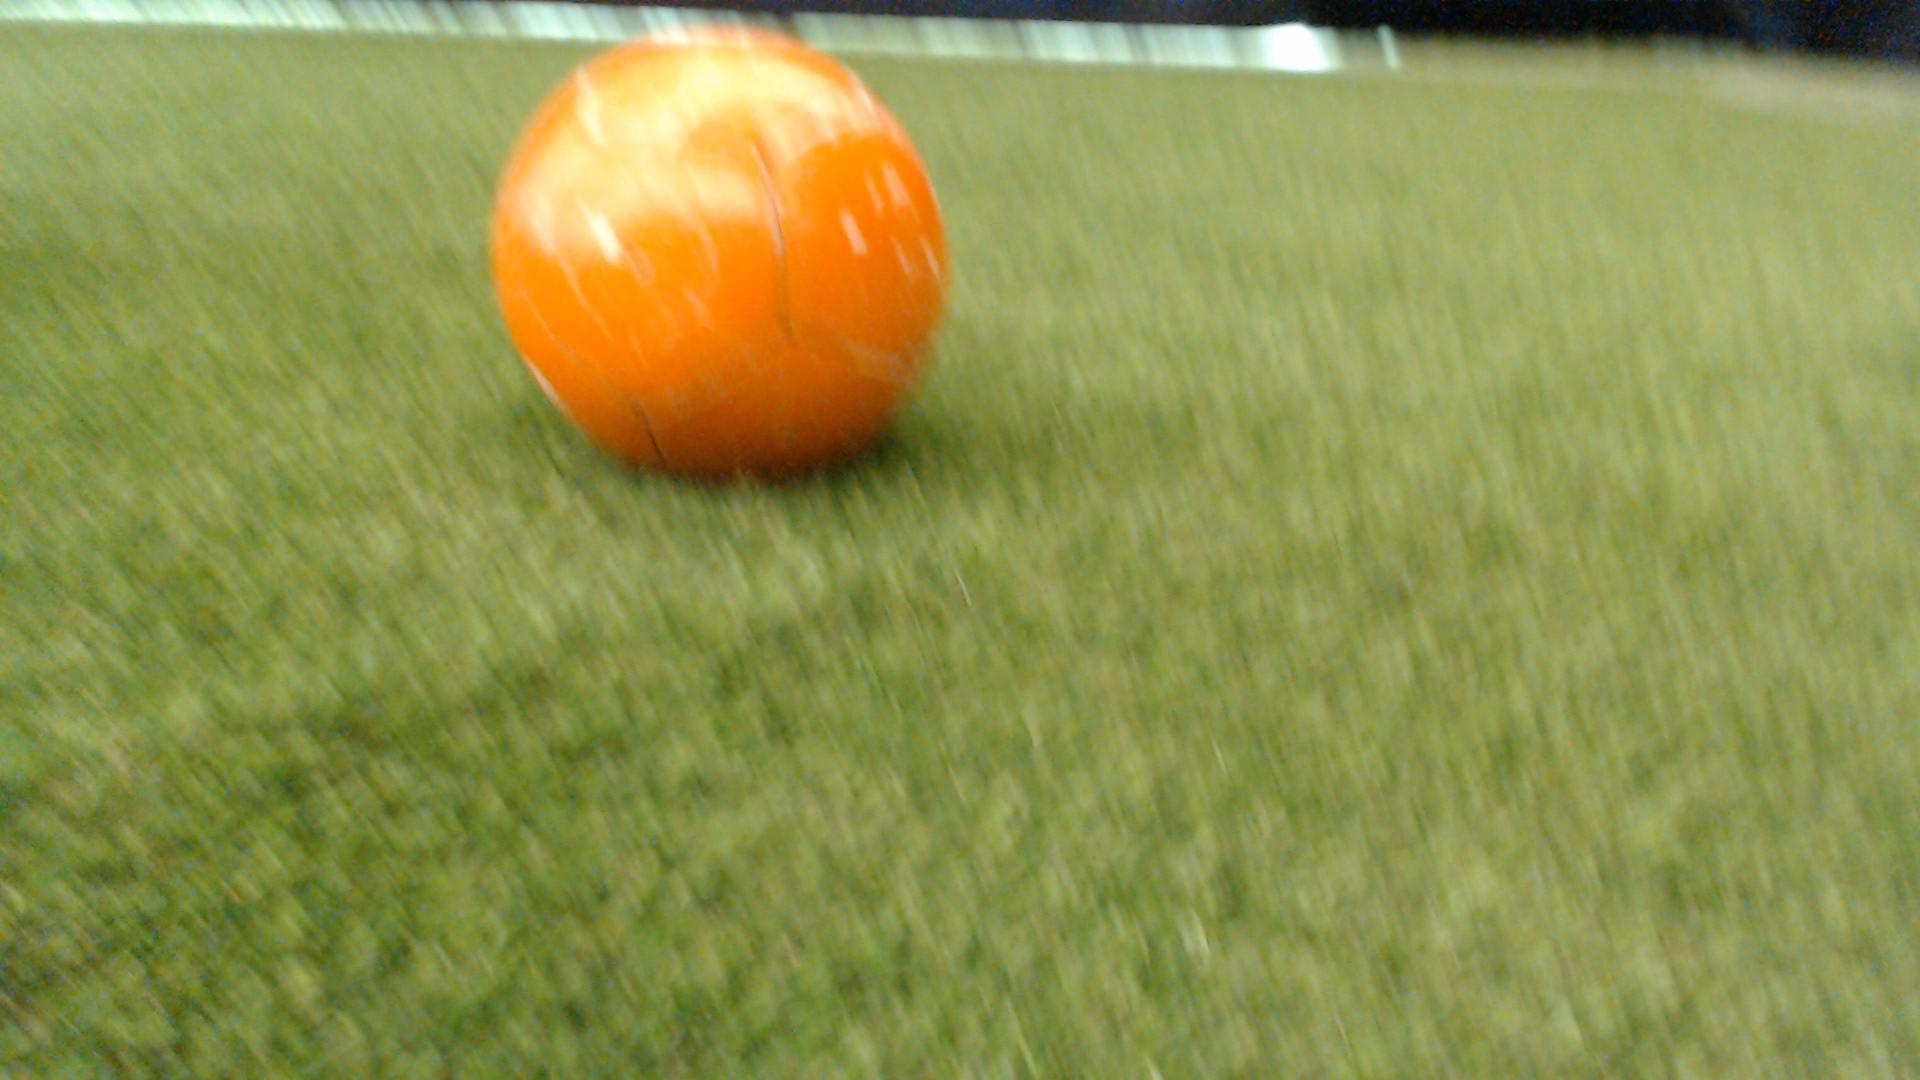bola: (458, 16, 1001, 504)
